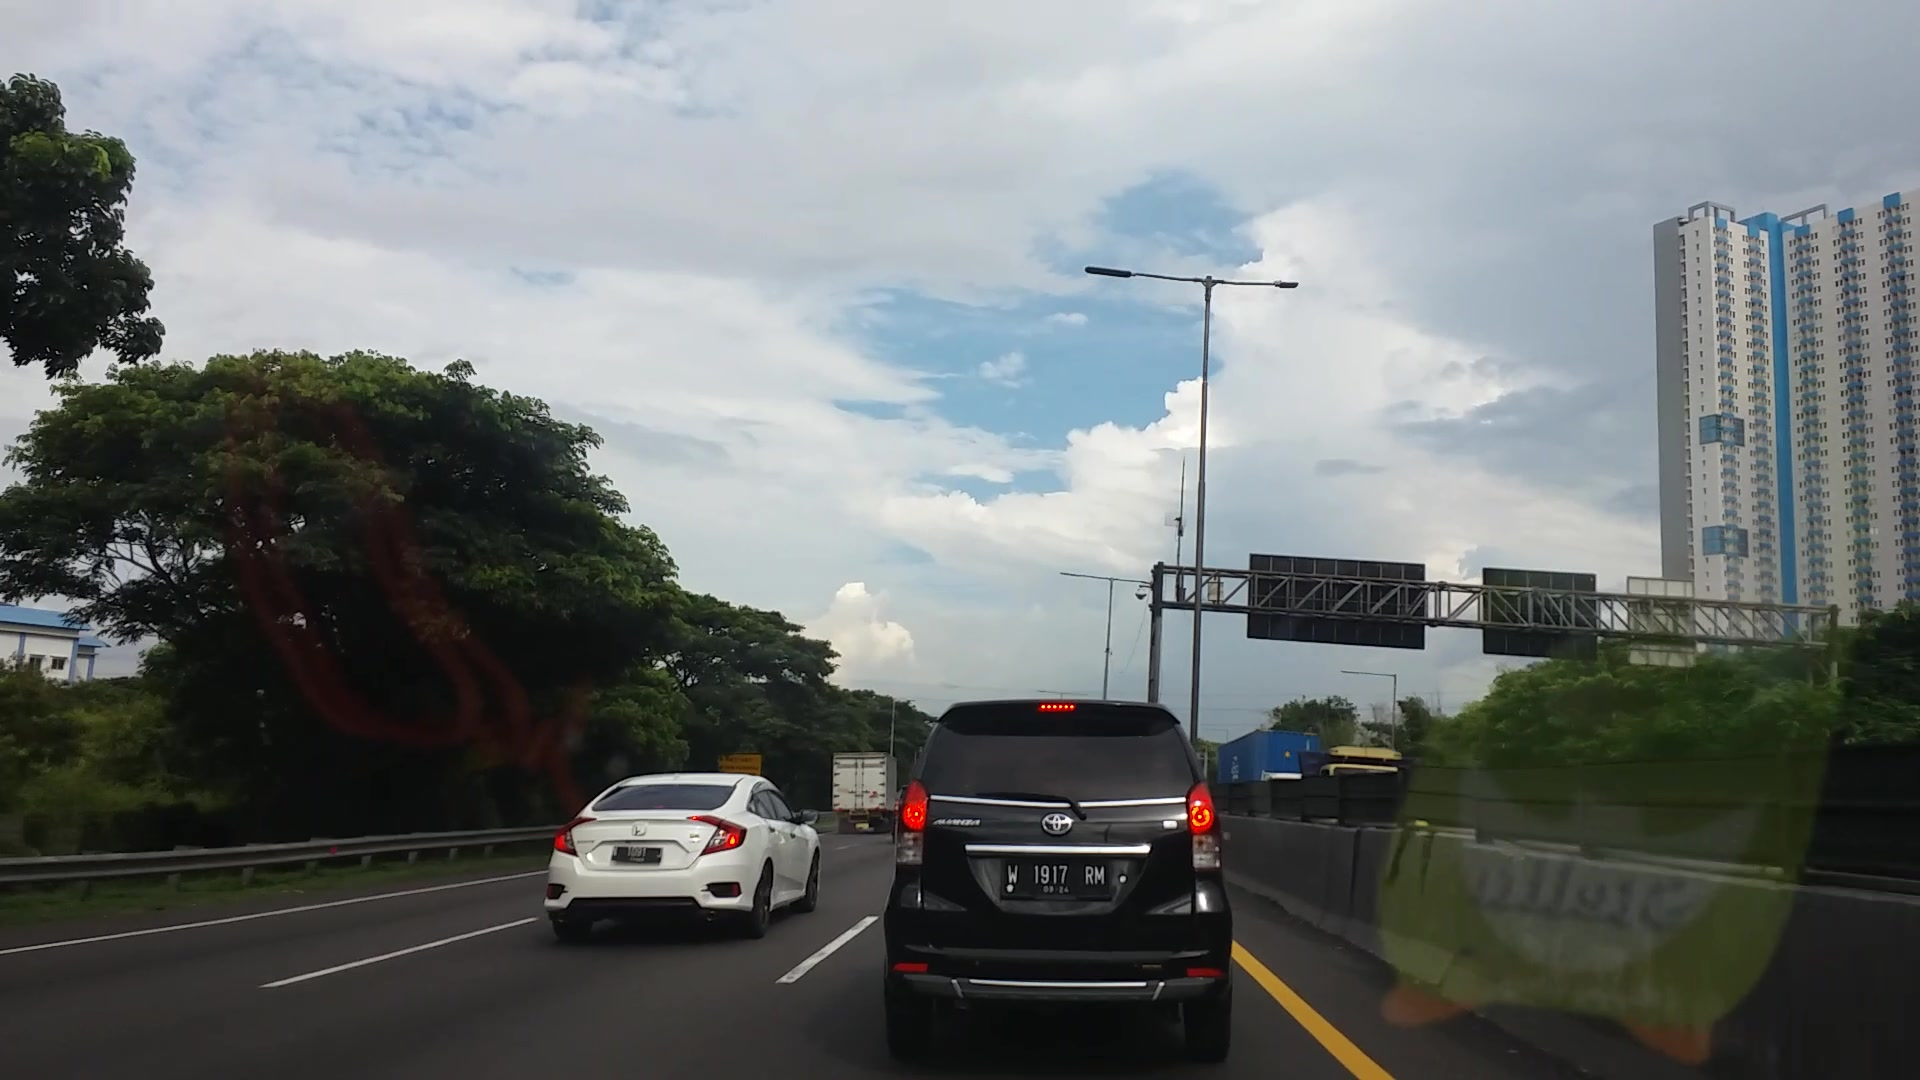plate_positive: (1004, 860, 1109, 895)
